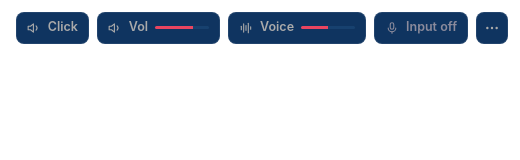
Test: MainHeader — the overflow › offers no help on the settings sheet, where the tour cannot run
Click the button named "More".
click(492, 28)  # box [476,12,508,44]
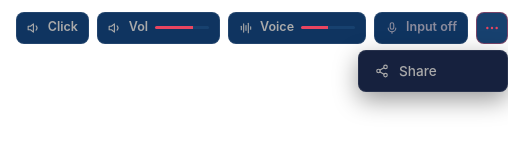
Check: the menu item "Share" is shown, box [363,54,503,86]
